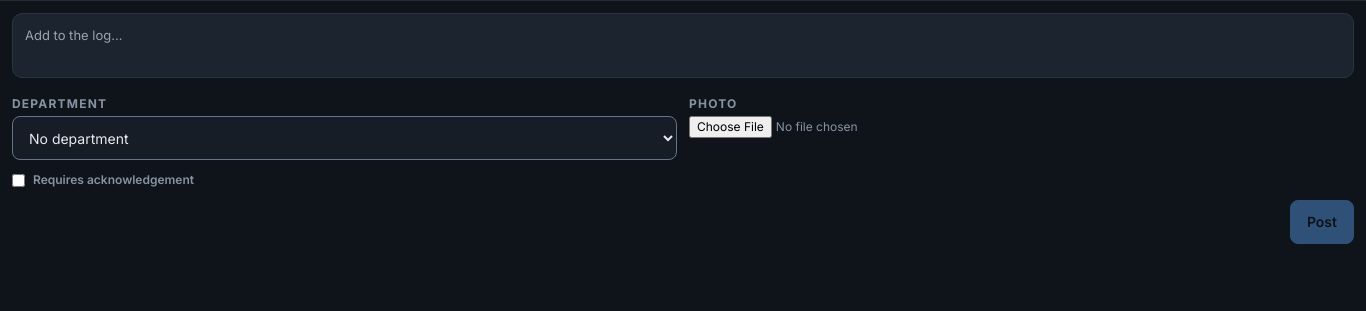
Scenario: LogComposer › shows the server error message when the post fails
The width and height of the screenshot is (1366, 311).
expect the dropdown labelled "Department" is shown: met, box [12,116,677,160]
In the field with placeholder "Add to the log…": (683, 46) [12,13,1354,78], type "Broken request"
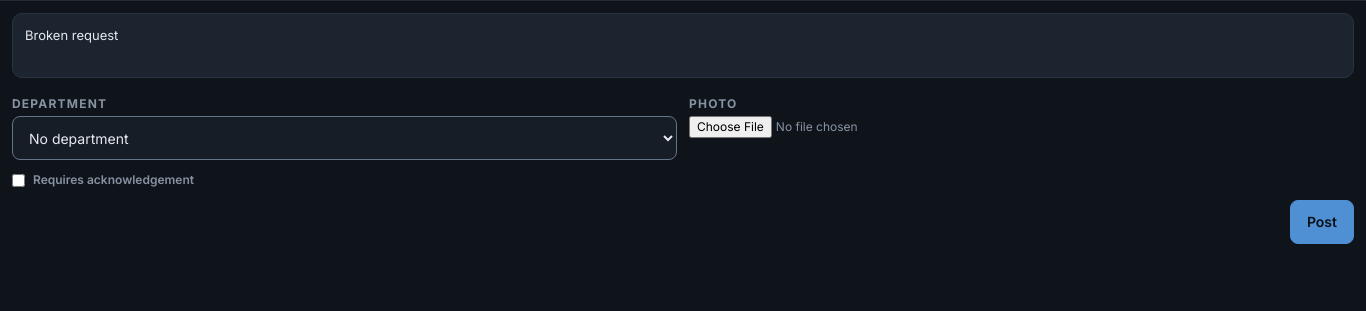
Click the button "Post": (1322, 222) [1290,200,1354,244]
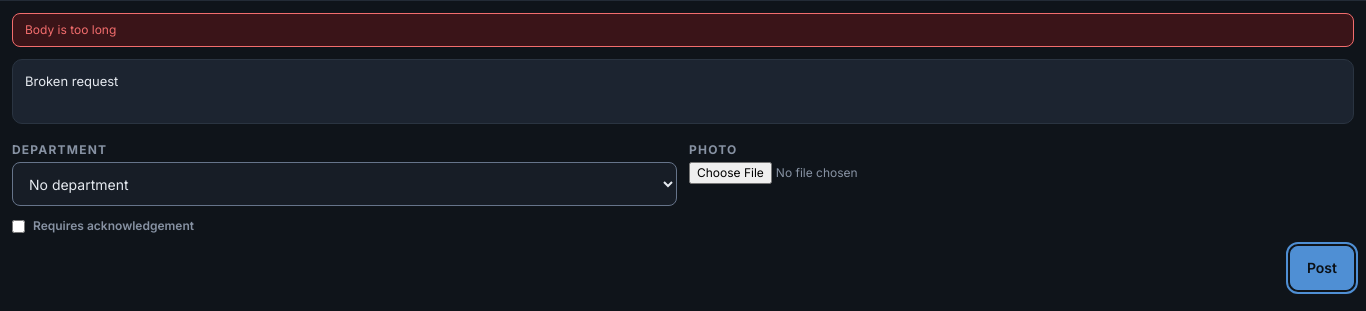
expect the message reads "Body is too long": met, box [25,22,116,37]
